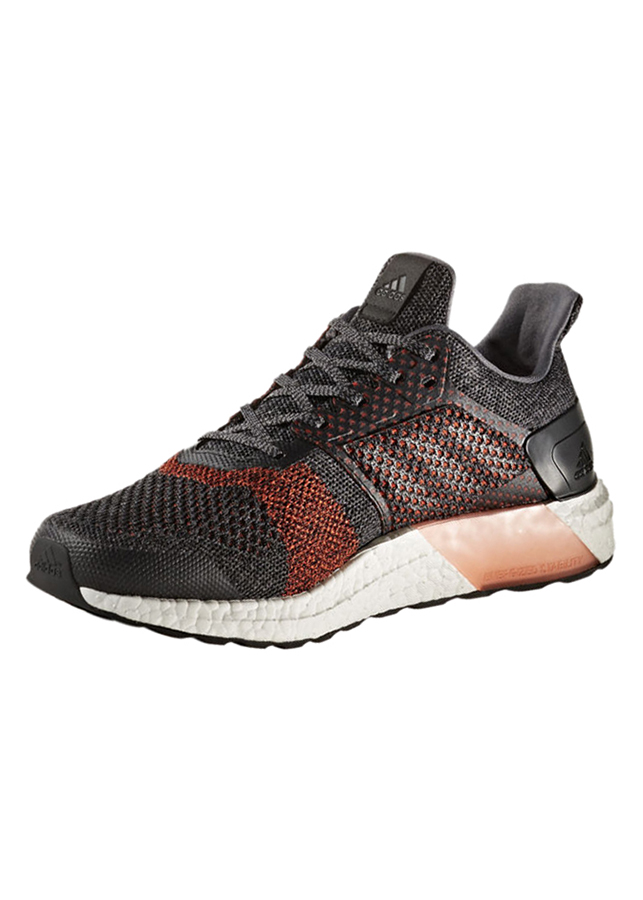Adidas: (370, 265, 414, 308)
